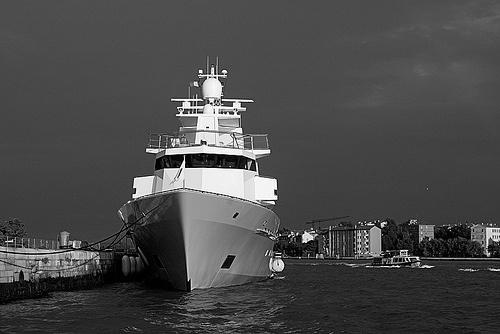boat: (115, 52, 287, 294), (368, 248, 428, 272)
